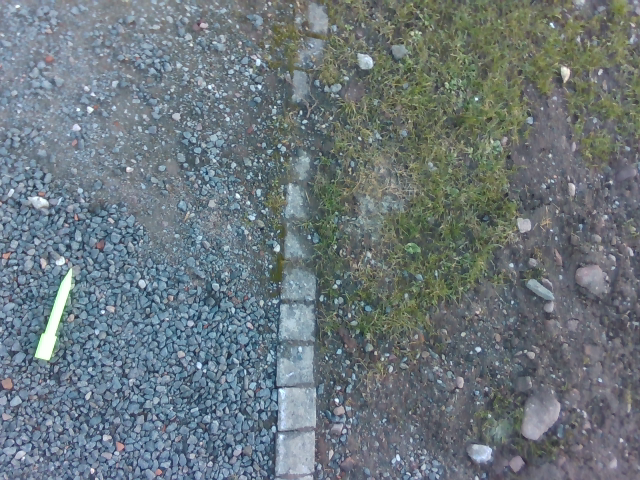Probe: (33, 262, 74, 363)
